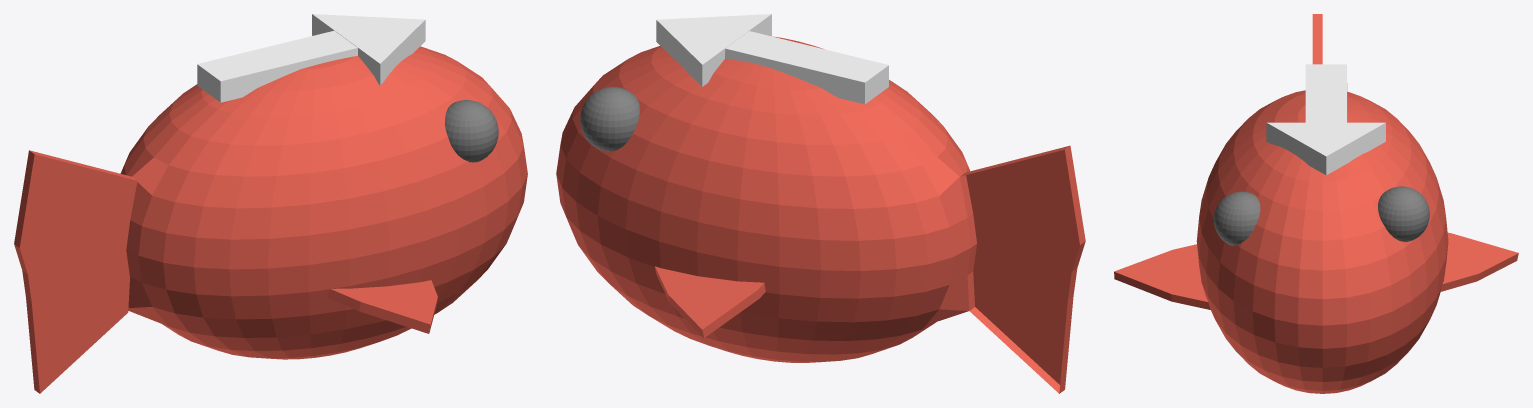
The model's file is SmallFishRed.fbx.
The picture shows the model from 3 angles, left to right: view 1: azimuth 30°, elevation 25°; view 2: azimuth 150°, elevation 25°; view 3: azimuth 270°, elevation 25°; orthographic projection. The views are drawn at different scales.
Visible parts, largest first — view 1: Сфера.003; view 2: Сфера.003; view 3: Сфера.003.
Boxes of the visible parts, box(x1,y1,x2,y2) form: Сфера.003: box(14, 14, 527, 393); Сфера.003: box(556, 14, 1085, 393); Сфера.003: box(1114, 14, 1518, 393).
Size of the model in its own units: 338 by 190 by 270.
